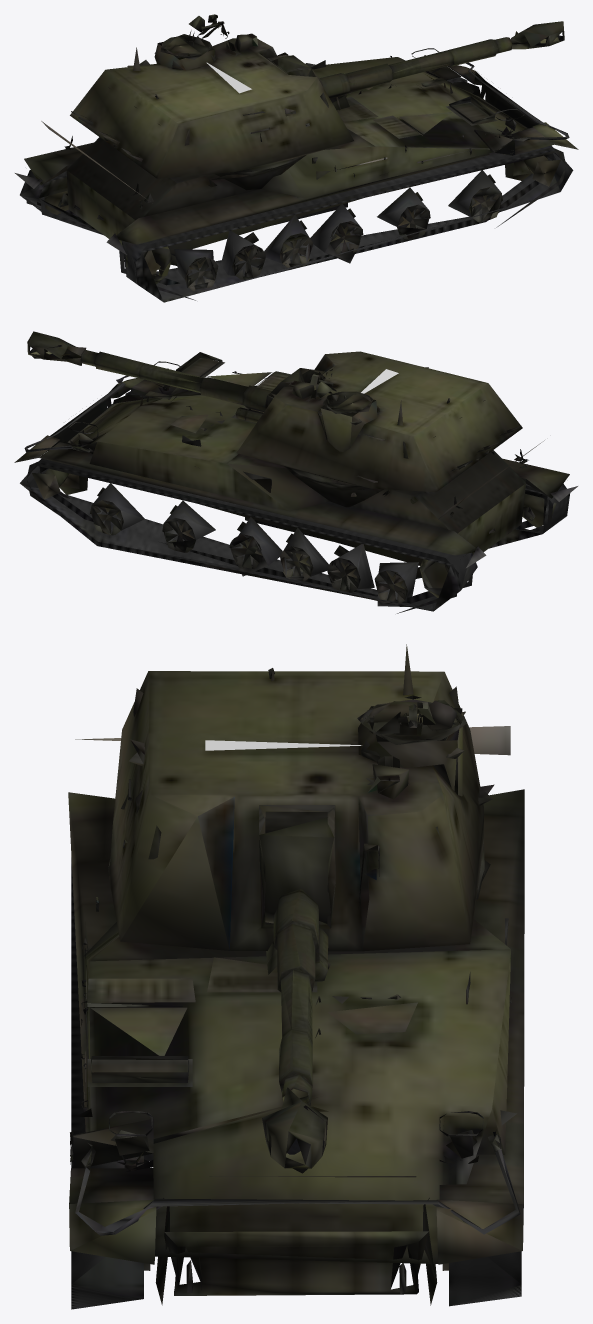
The model's file is akacia_lo.glb.
3 views of the same model, one above another, from view 1: azimuth 30°, elevation 25°; view 2: azimuth 150°, elevation 25°; view 3: azimuth 270°, elevation 25° (orthographic). The views are drawn at different scales.
Visible parts, largest first — view 1: g_akacia_hull, g_akacia_turret, g_akacia_gun; view 2: g_akacia_hull, g_akacia_turret, g_akacia_gun; view 3: g_akacia_hull, g_akacia_turret, g_akacia_gun.
Boxes of the visible parts, <box> form: g_akacia_hull: <box>15,48,578,302</box>; g_akacia_turret: <box>70,14,564,190</box>; g_akacia_gun: <box>319,37,512,98</box>; g_akacia_hull: <box>14,352,577,613</box>; g_akacia_turret: <box>27,331,522,507</box>; g_akacia_gun: <box>80,349,271,422</box>; g_akacia_hull: <box>68,726,524,1309</box>; g_akacia_turret: <box>85,644,494,1177</box>; g_akacia_gun: <box>273,889,328,1105</box>.
Size of the model in its own units: 8.37 by 3.27 by 3.37.
4 materials, 3 textured.
